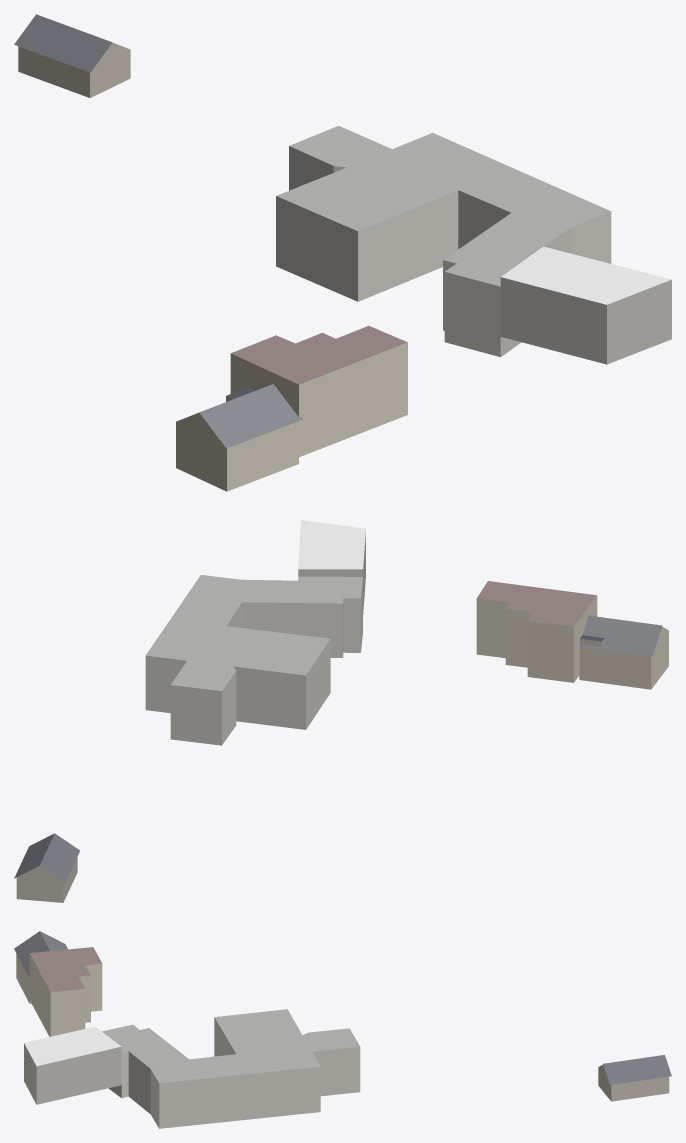
3 renders of one model, top to bottom at view 1: azimuth 30°, elevation 25°; view 2: azimuth 150°, elevation 25°; view 3: azimuth 270°, elevation 25°, orthographic. The views are drawn at different scales.
Parts seen in each view (by area): view 1: tuile; view 2: tuile; view 3: tuile.
Part boxes in pixels (x1=…): tuile: x1=14, y1=14, x2=671, y2=491; tuile: x1=14, y1=520, x2=668, y2=902; tuile: x1=14, y1=931, x2=671, y2=1128.
Bounding box in the file's own units: 67.16 × 12.74 × 116.
